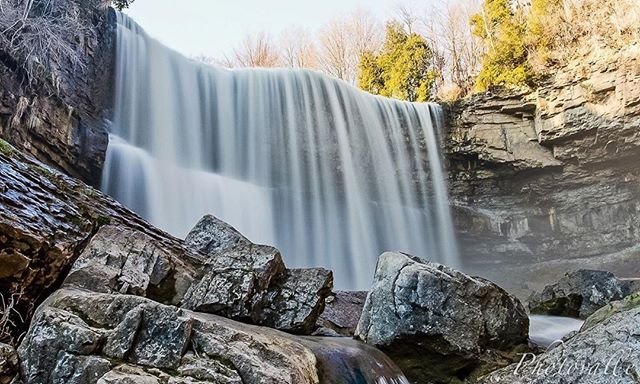rocks: (1, 200, 601, 384)
waterfall: (105, 7, 465, 287)
